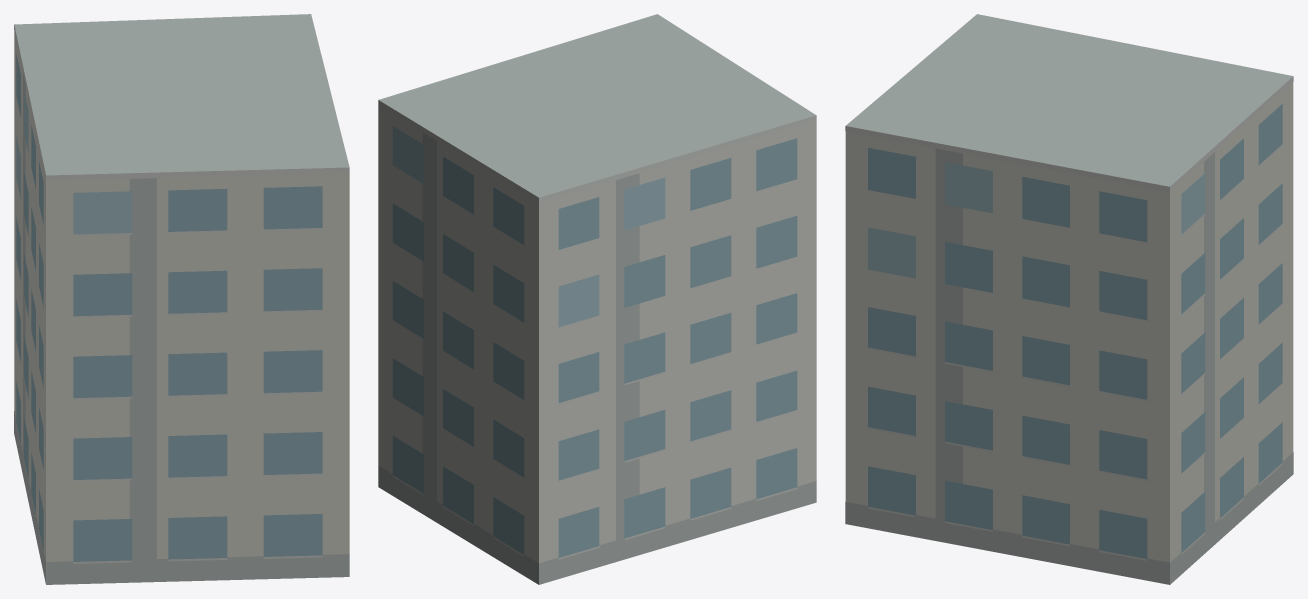
Rendered from survey-upis-32985053.glb.
3 renders of one model, left to right at view 1: azimuth 30°, elevation 25°; view 2: azimuth 150°, elevation 25°; view 3: azimuth 270°, elevation 25°, orthographic. The views are drawn at different scales.
Visible parts, largest first — view 1: survey-upis-32985053.tmp; view 2: survey-upis-32985053.tmp; view 3: survey-upis-32985053.tmp.
Boxes of the visible parts, <box> form: survey-upis-32985053.tmp: <box>14,14,349,584</box>; survey-upis-32985053.tmp: <box>378,14,816,584</box>; survey-upis-32985053.tmp: <box>845,14,1293,584</box>.
Bounding box in the file's own units: 16.43 × 17.64 × 18.
